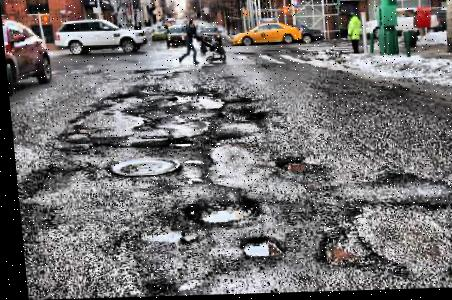pothole: (183, 198, 256, 228), (310, 235, 357, 269), (233, 234, 279, 261), (272, 158, 319, 176), (167, 139, 191, 148)
